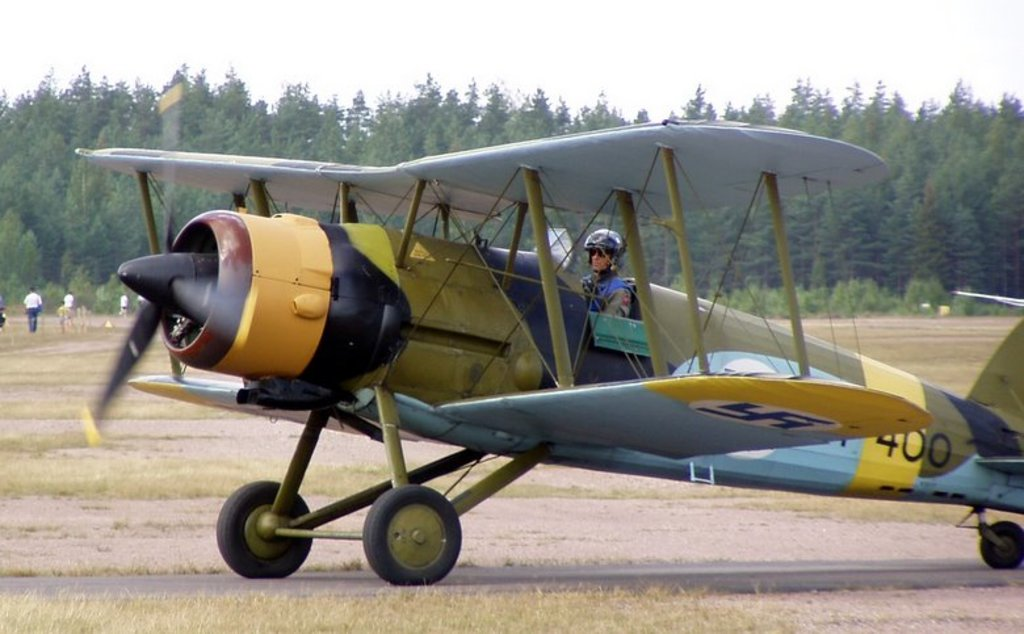Tree: (0, 62, 1023, 307)
